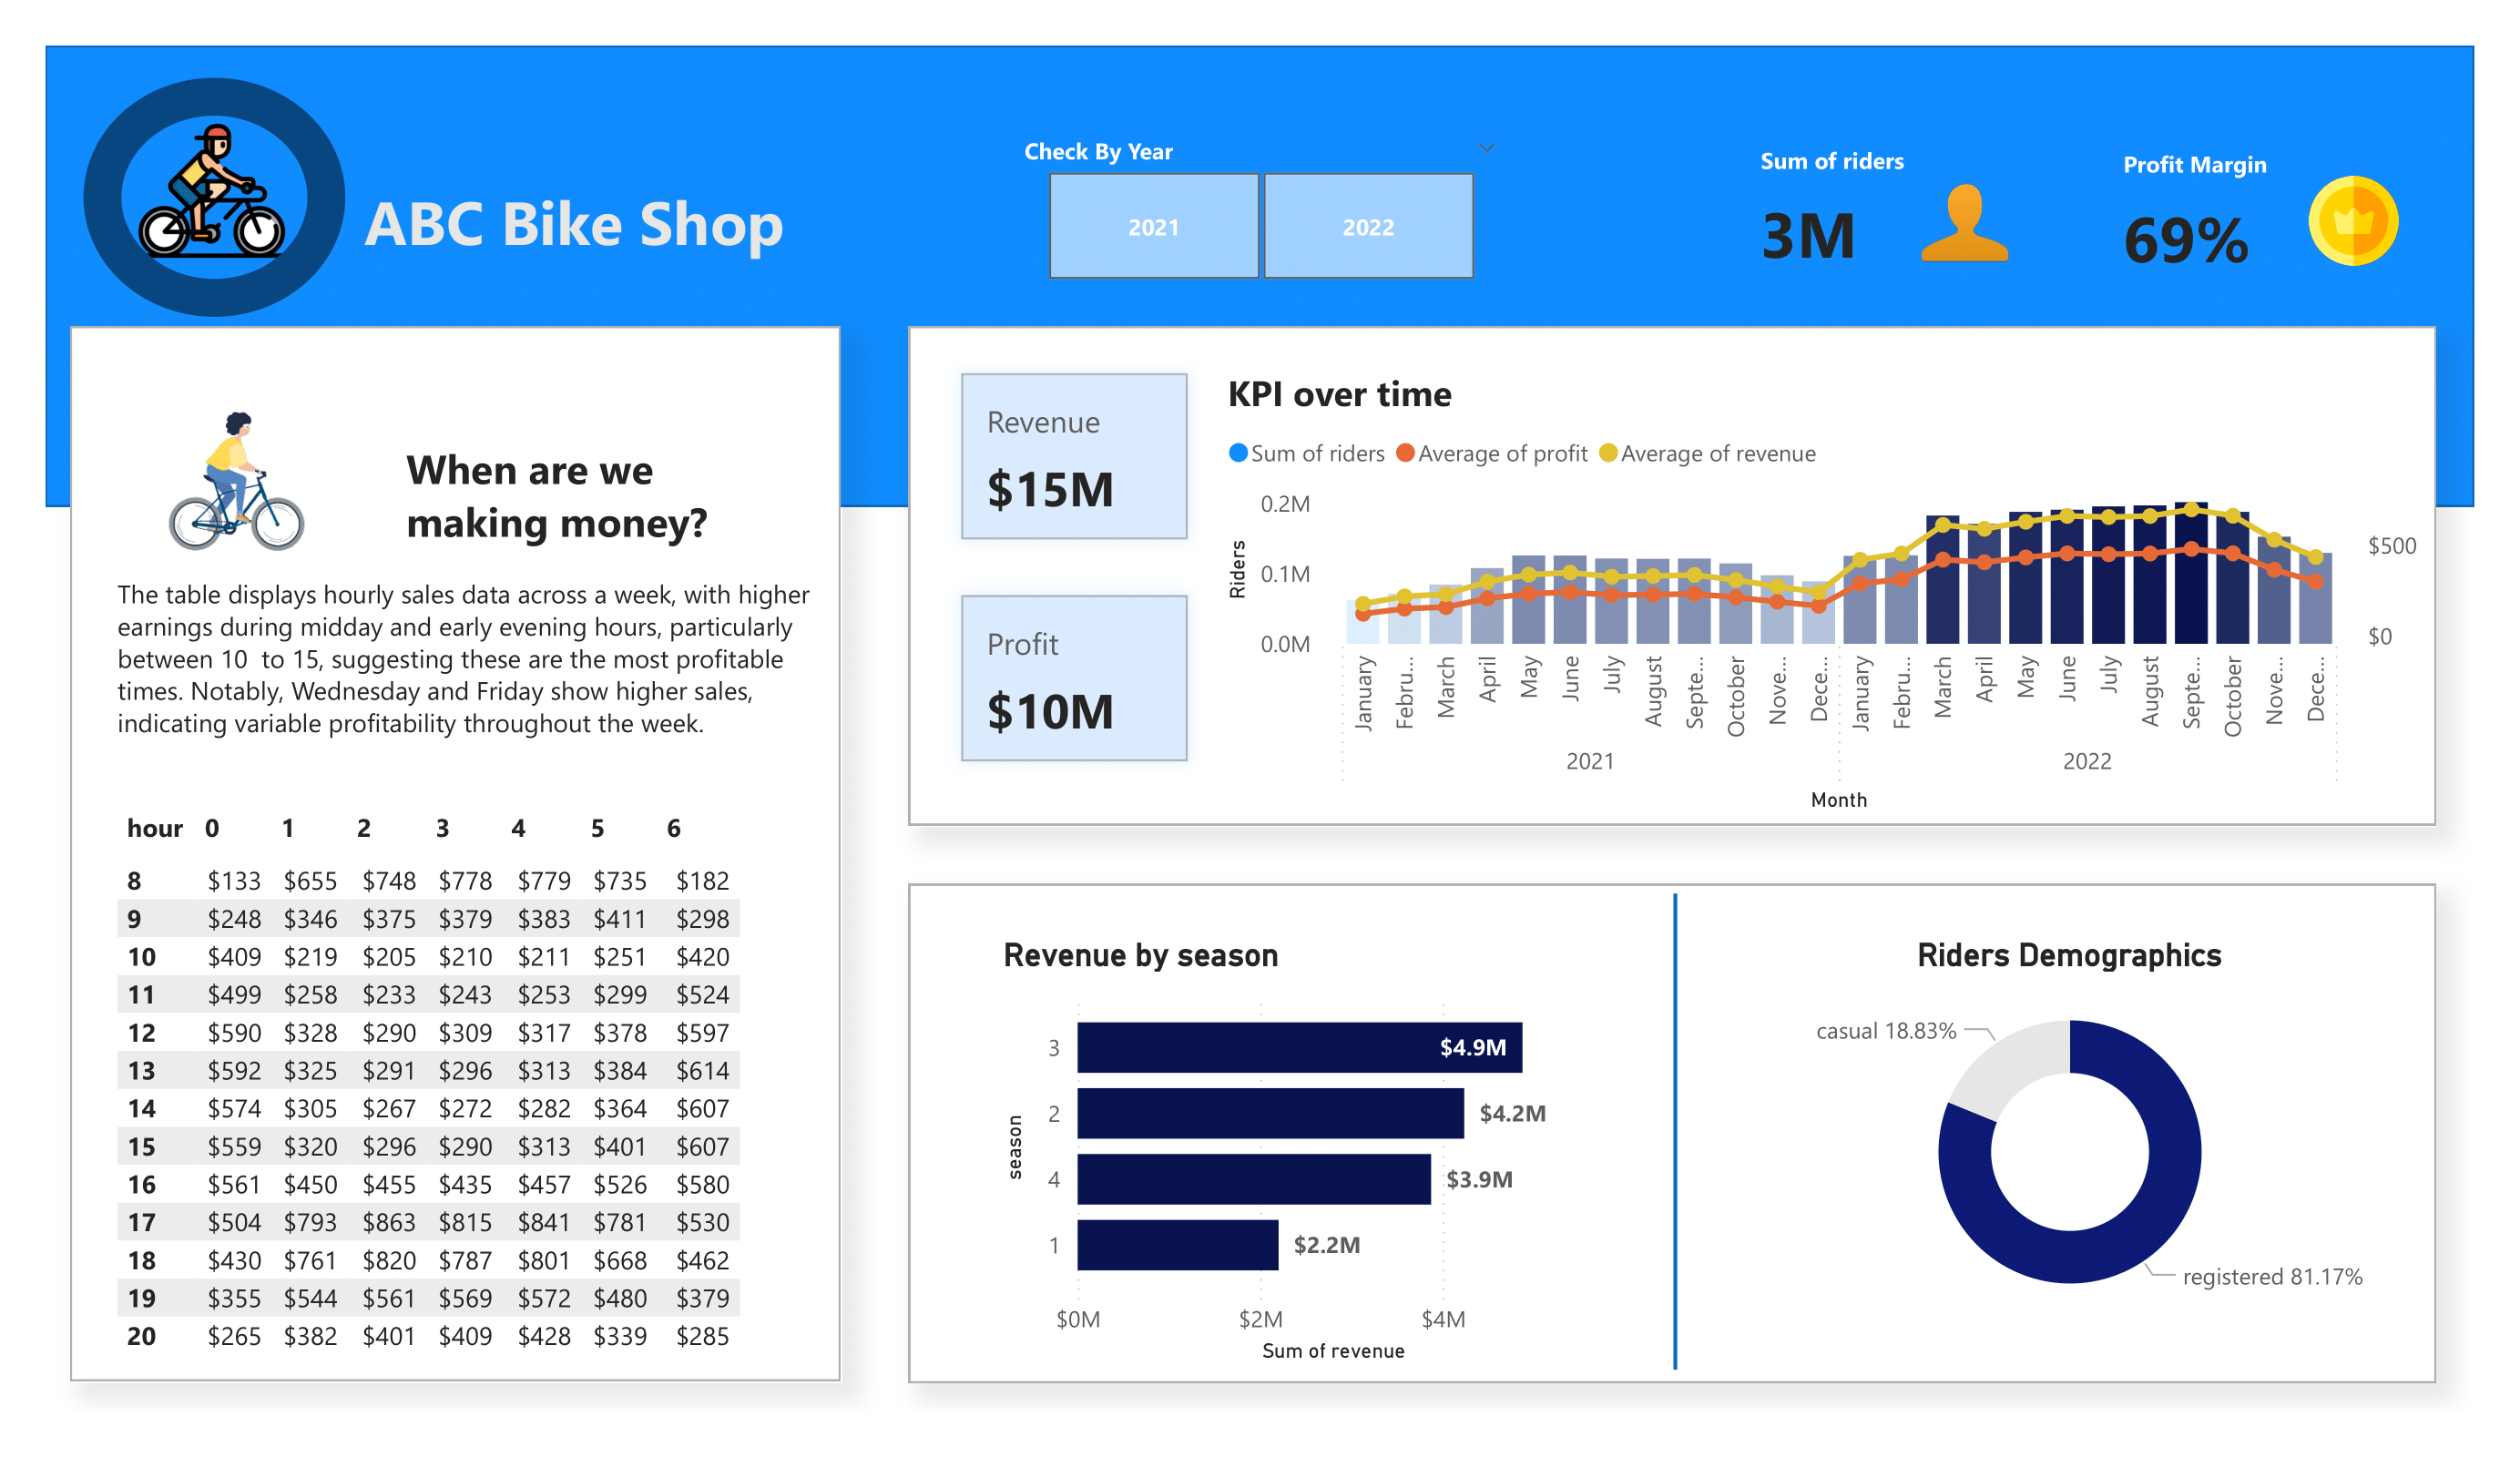

This screenshot's page, from the dashboard's own definition file:
{"tool":"powerbi","page":{"name":"Bike_Shop","canvas":[1280,720],"ordinal":0},"visuals":[{"type":"shape","box":[0,0,1280,243.3],"z":0},{"type":"cardVisual","fields":{"Data":["Sum(Bike_Share.hour)"]},"box":[973.3,48.3,81.7,95],"z":1000},{"type":"cardVisual","fields":{"Data":["Sum(Bike_Share.cost)"]},"box":[455,148.3,805,263.3],"z":2000},{"type":"cardVisual","fields":{"Data":["Sum(Bike_Share.riders)"]},"box":[891.7,38.3,101.7,95],"z":3000},{"type":"cardVisual","fields":{"Data":["Sum(Bike_Share.cost)"]},"box":[455,441.7,805,263.3],"z":4000},{"type":"cardVisual","fields":{"Data":["Sum(Bike_Share.cost)"]},"box":[13.3,148.3,406.7,556.7],"z":5000},{"type":"clusteredBarChart","title":"Revenue by season","fields":{"Y":["Sum(Bike_Share.revenue)"],"Category":["Bike_Share.season"]},"box":[504.6,468.7,321.3,224.9],"z":6000},{"type":"cardVisual","fields":{"Data":["Sum(Bike_Share.cost)"]},"box":[33.3,170,151.7,105],"z":7000},{"type":"donutChart","title":"Riders Demographics","fields":{"Y":["Sum(Bike_Share.riders)"],"Category":["Bike_Share.rider_type"]},"box":[878.7,468.7,376.1,209.8],"z":8000},{"type":"lineClusteredColumnComboChart","title":"KPI over time","fields":{"Y":["Sum(Bike_Share.riders)"],"Category":["Bike_Share.dteday.Variation.Date Hierarchy.Year","Bike_Share.dteday.Variation.Date Hierarchy.Month","Bike_Share.dteday.Variation.Date Hierarchy.Day"],"Y2":["Avg(Bike_Share.profit)","Avg(Bike_Share.revenue)"]},"box":[618,170.1,636.9,238.1],"z":9000},{"type":"shape","box":[845,446.7,28.3,251.7],"z":10000},{"type":"cardVisual","fields":{"Data":["Sum(Bike_Share.revenue)","Sum(Bike_Share.profit)"]},"box":[466.7,156.7,151.7,236.7],"z":11000},{"type":"textbox","box":[185,203.3,188.3,85],"z":12000},{"type":"textbox","box":[33.3,275,376.7,121.7],"z":13000},{"type":"pivotTable","title":"d","fields":{"Rows":["Bike_Share.hour"],"Values":["Avg(Bike_Share.profit)"],"Columns":["Bike_Share.weekday"]},"box":[33.3,396.7,365,301.7],"z":14000},{"type":"cardVisual","fields":{"Data":["Sum(Bike_Share.hour)"]},"box":[33.3,8.3,115,140],"z":15000},{"type":"shape","box":[20,16.7,138.3,126.7],"z":16000},{"type":"textbox","box":[163.3,65,271.7,60],"z":17000},{"type":"cardVisual","fields":{"Data":["Bike_Share.Profit Margin"]},"box":[1083.3,41.7,101.7,91.7],"z":18000,"group":"g1"},{"type":"slicer","fields":{"Values":["Bike_Share.year"]},"box":[503.3,41.7,273.3,88.3],"z":18000},{"type":"cardVisual","fields":{"Data":["Sum(Bike_Share.hour)"]},"box":[1177.2,46.7,83.3,95],"z":19000,"group":"g1"},{"type":"group","id":"g1","title":"Group 2","box":[1083.3,41.7,176.7,100],"z":19000}]}

Visuals, with their boxes in screenshot pixels (x1, y1, x2, y2):
shape: locate(46, 46, 2474, 507)
cardVisual - Sum(Bike_Share.hour): locate(1893, 138, 2047, 318)
cardVisual - Sum(Bike_Share.cost): locate(909, 327, 2436, 827)
cardVisual - Sum(Bike_Share.riders): locate(1738, 118, 1931, 299)
cardVisual - Sum(Bike_Share.cost): locate(909, 883, 2436, 1383)
cardVisual - Sum(Bike_Share.cost): locate(71, 327, 842, 1383)
"Revenue by season" clusteredBarChart: locate(1003, 934, 1613, 1361)
cardVisual - Sum(Bike_Share.cost): locate(108, 368, 396, 567)
"Riders Demographics" donutChart: locate(1713, 934, 2426, 1333)
"KPI over time" lineClusteredColumnComboChart: locate(1219, 368, 2427, 820)
shape: locate(1649, 893, 1703, 1370)
cardVisual - Sum(Bike_Share.revenue) x Sum(Bike_Share.profit): locate(931, 342, 1219, 792)
textbox: locate(396, 432, 754, 593)
textbox: locate(108, 567, 823, 798)
"d" pivotTable: locate(108, 798, 801, 1370)
cardVisual - Sum(Bike_Share.hour): locate(108, 61, 327, 327)
shape: locate(84, 77, 346, 318)
textbox: locate(355, 168, 871, 282)
cardVisual - Bike_Share.Profit Margin: locate(2101, 125, 2294, 299)
slicer - Bike_Share.year: locate(1001, 125, 1519, 292)
cardVisual - Sum(Bike_Share.hour): locate(2280, 134, 2437, 314)
"Group 2" group: locate(2101, 125, 2436, 314)
